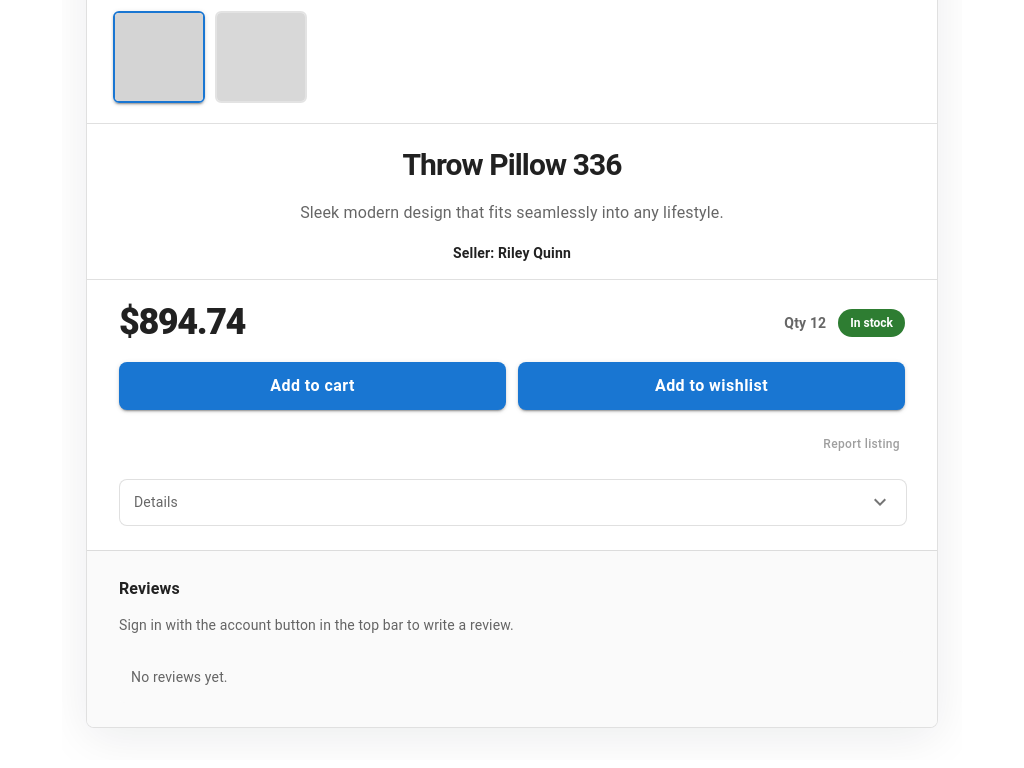
Test: adds the item to cart when Add to cart is clicked
The width and height of the screenshot is (1024, 768).
(page scrolled)
Click the button "Add to cart": (312, 386) [119,362,506,410]
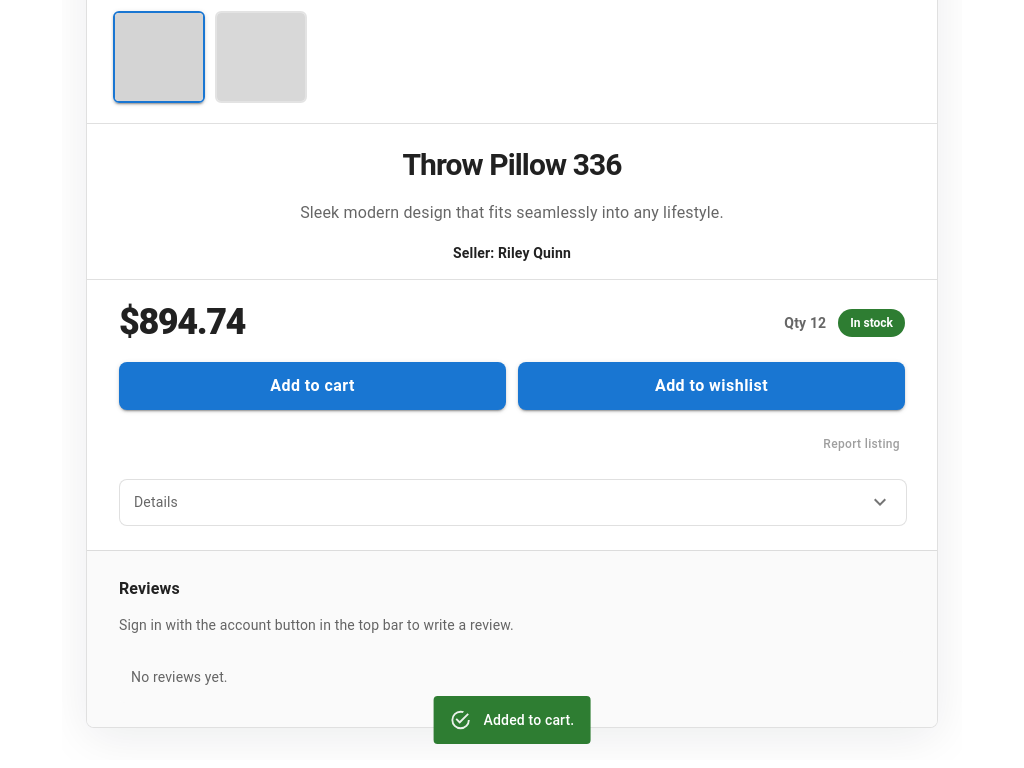
Expected: the message labelled "Added to cart." is shown, [434,696,590,744]
